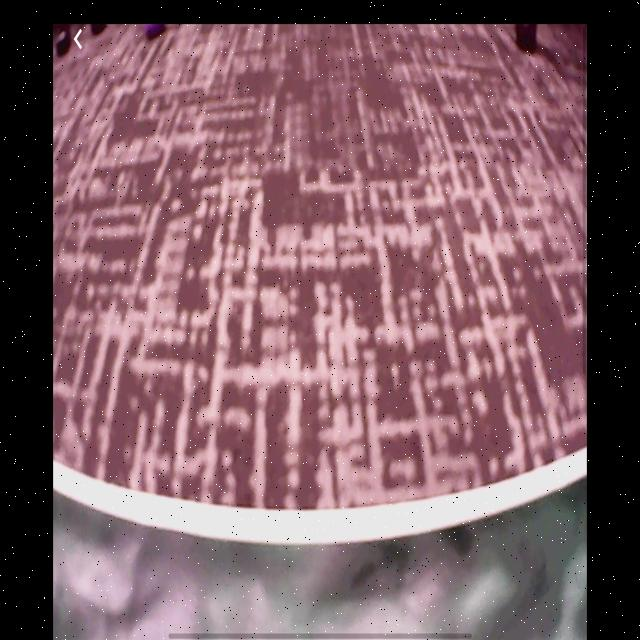ball: (144, 23, 167, 40)
